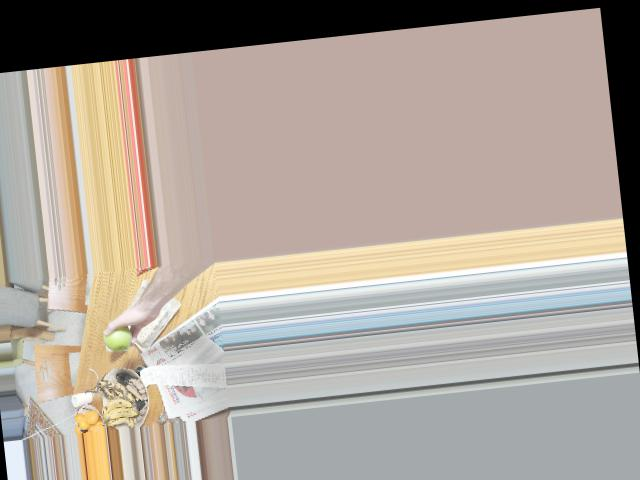apple: (100, 320, 137, 352)
